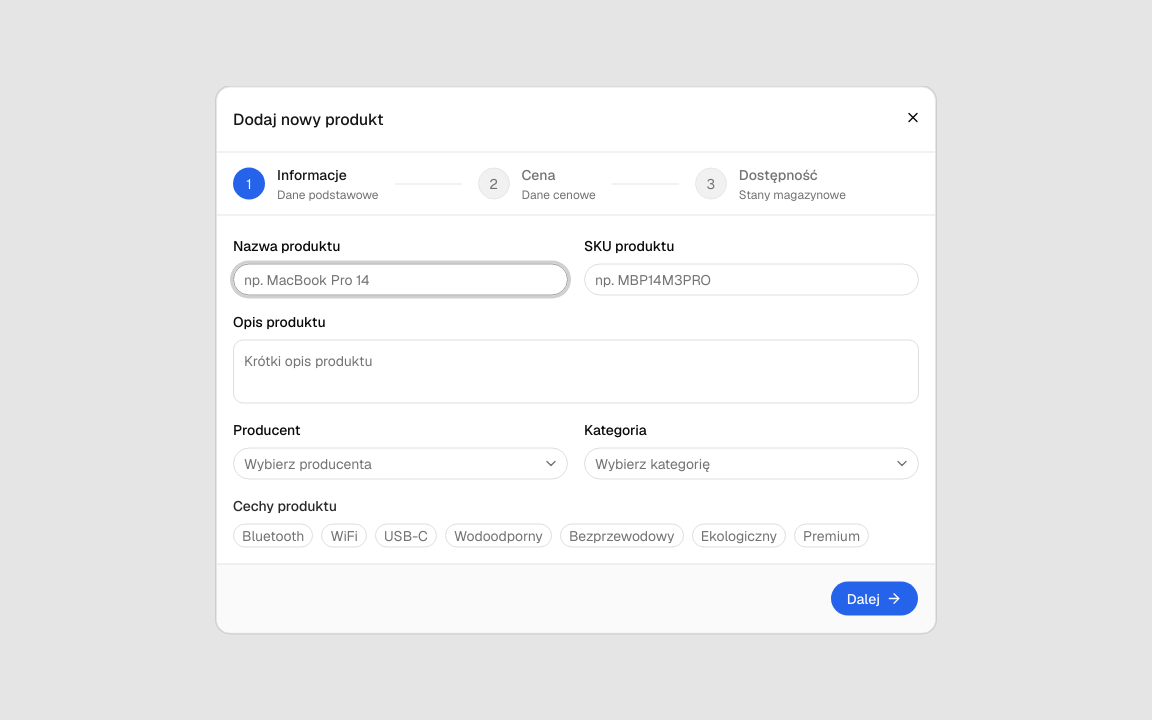
it: ProductDialog - komunikaty błędów › ujawnia błędy wszystkich niepoprawnych pól po kliknięciu "Dalej"
Click the button "Dalej": (874, 598) [830,580,919,616]
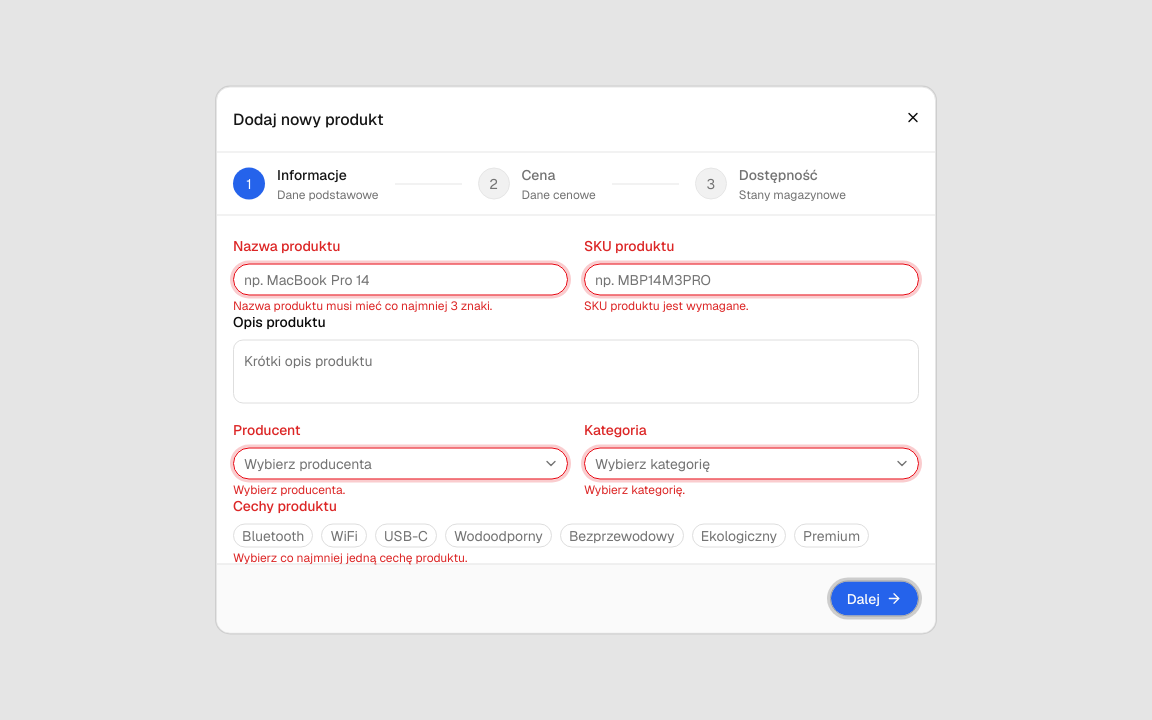
expect the text "Nazwa produktu musi mieć co najmniej 3 znaki." is shown: met, box [233,298,492,314]
expect the text "SKU produktu jest wymagane." is shown: met, box [584,298,748,314]
